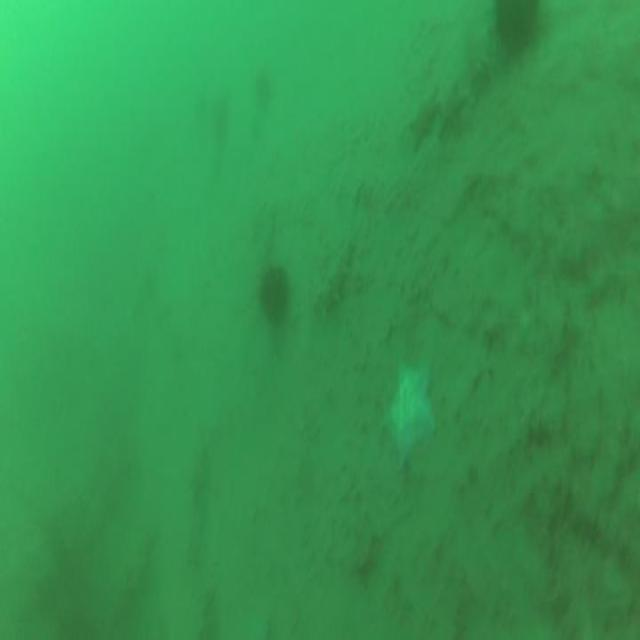echinus: (260, 274, 290, 330)
holothurian: (315, 243, 350, 318)
starfish: (385, 363, 437, 468), (496, 0, 538, 55)
